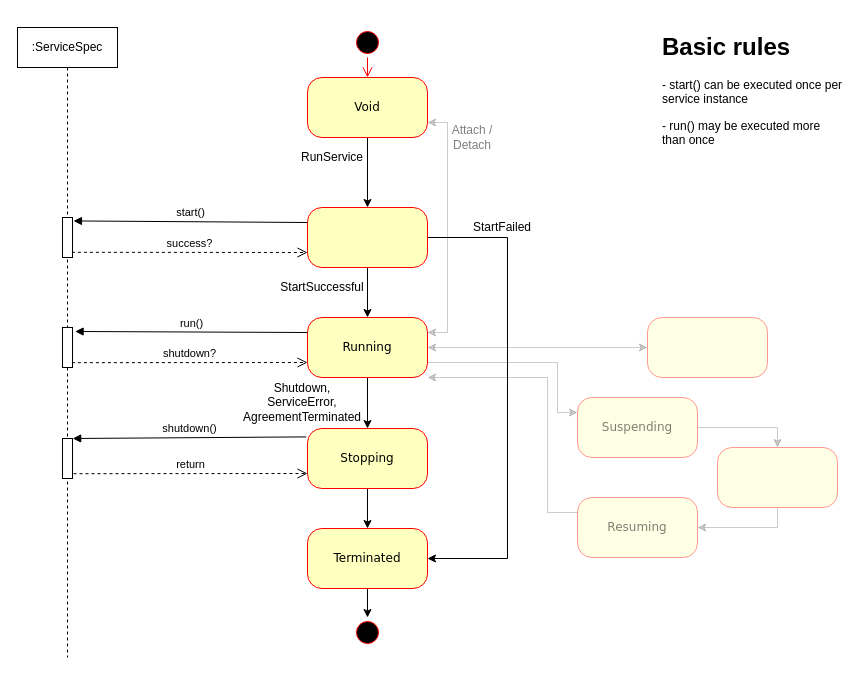
This 865x675 diagram has some shape labels left out. Each missing label, with the centre of its shape:
"Starting" goes at (367,237).
"Suspended" goes at (777,477).
"Unresponsive" goes at (707,347).
